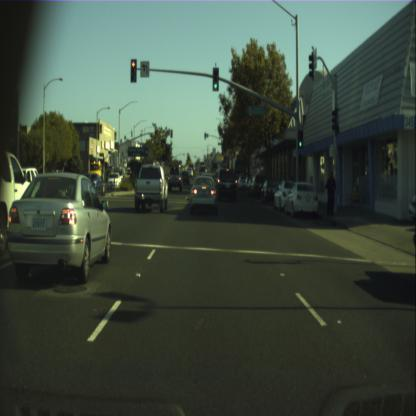Green: (212, 67, 218, 90), (298, 130, 302, 147), (204, 132, 206, 138)
RedLeft: (130, 59, 136, 81)
